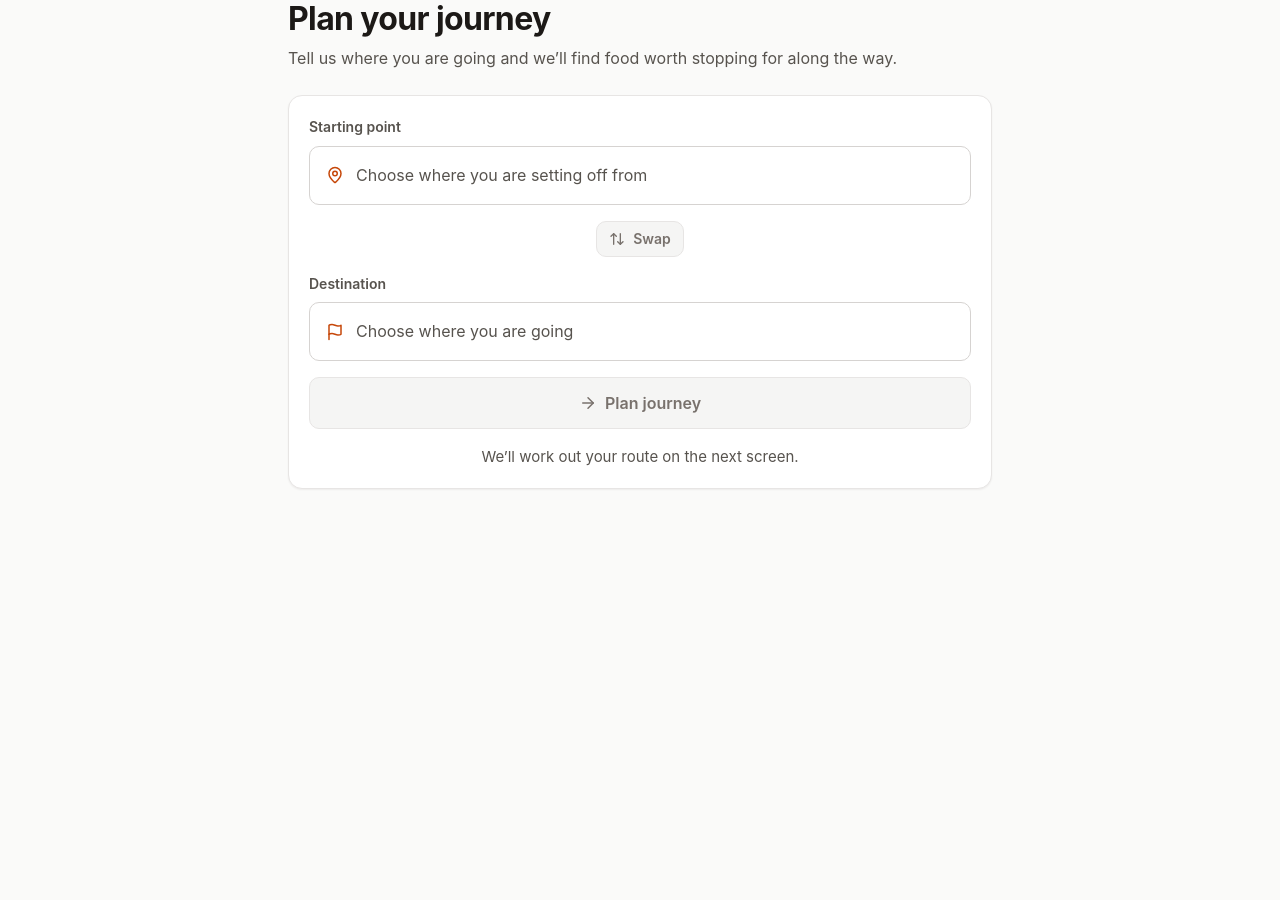
Test case: TripPlannerScreen › marks a saved address with no map location as unusable instead of letting it fail later
Click the button with aria-label "Starting point" at (640, 175), box [309,146,971,205]
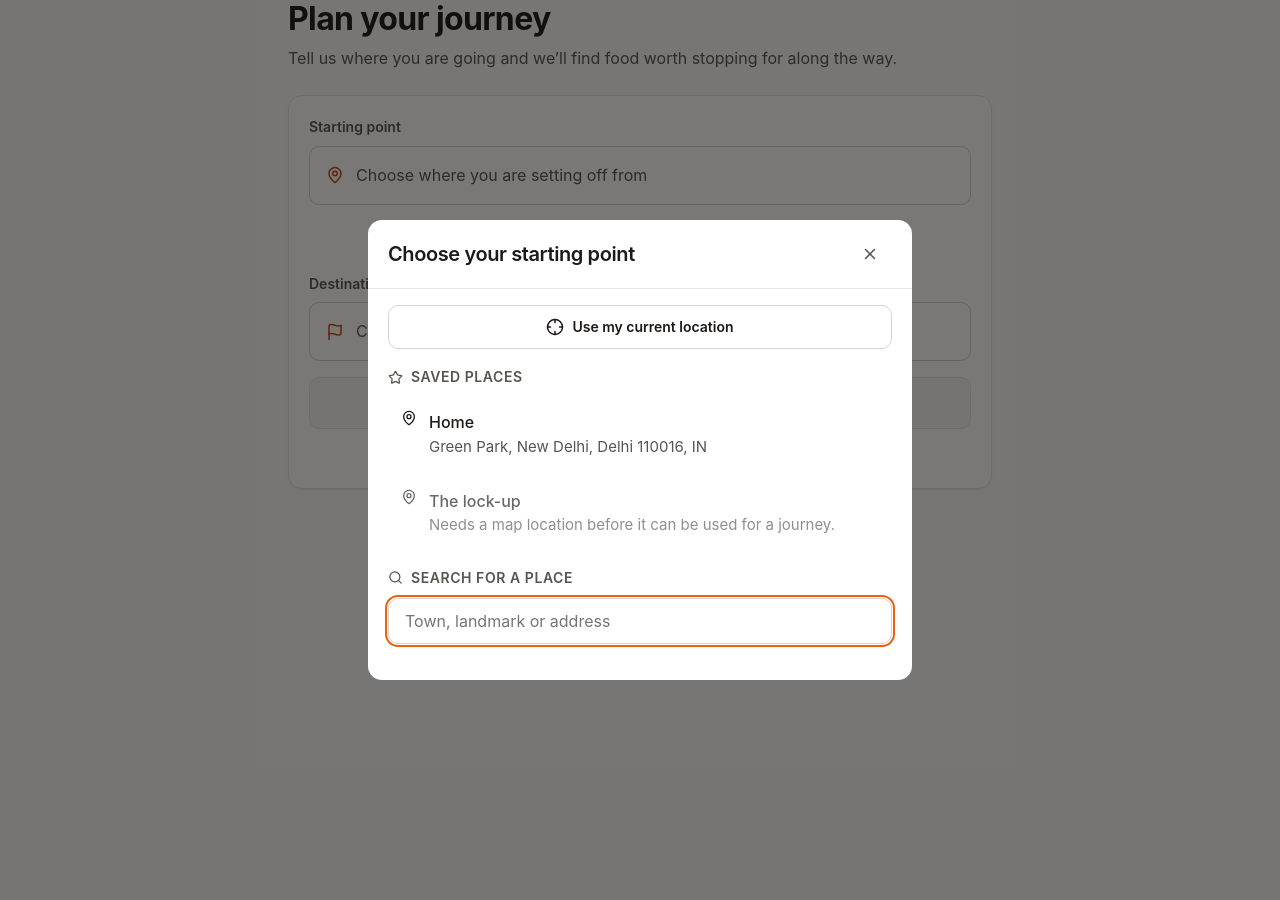
Result: the text "Needs a map location before it can be used for a journey." is shown at [429,513,835,537]
